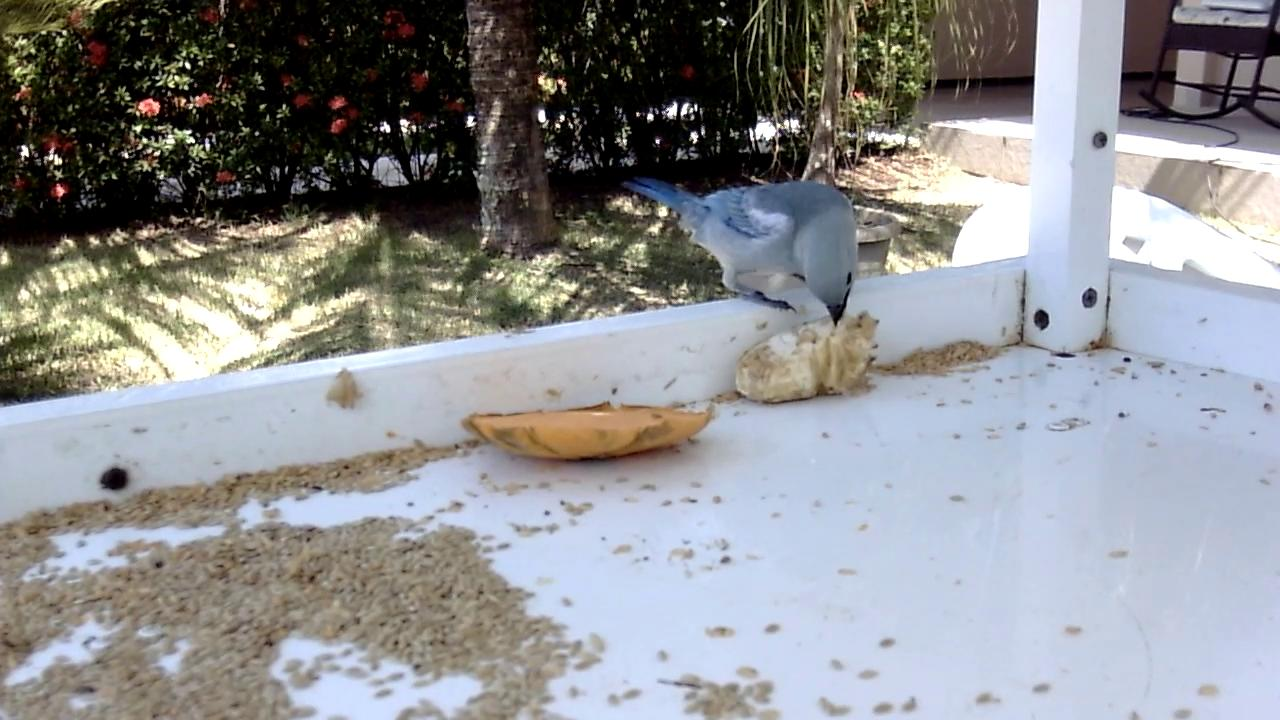sanhaco_da_amazonia: (623, 172, 862, 329)
